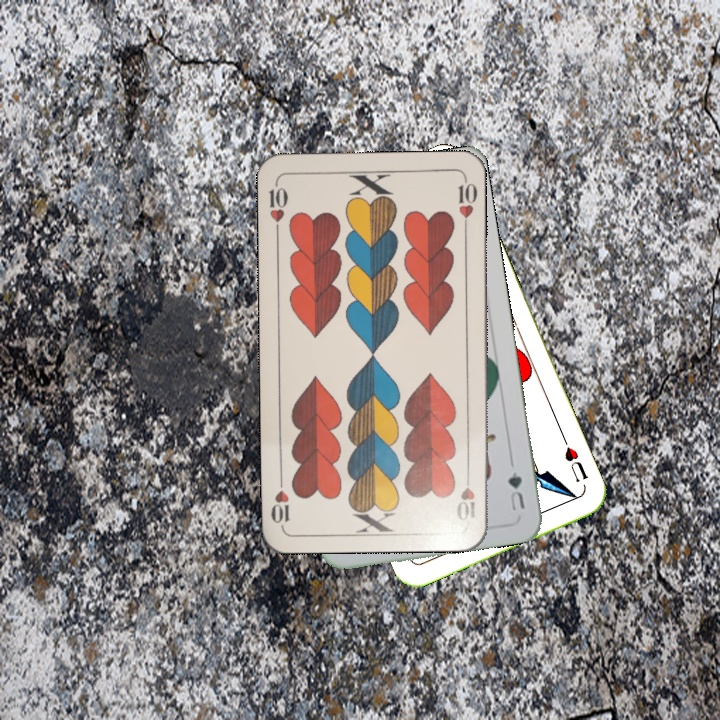GU: (503, 467, 528, 514)
H10: (264, 178, 290, 237), (454, 466, 478, 525)
HU: (558, 433, 591, 485)
